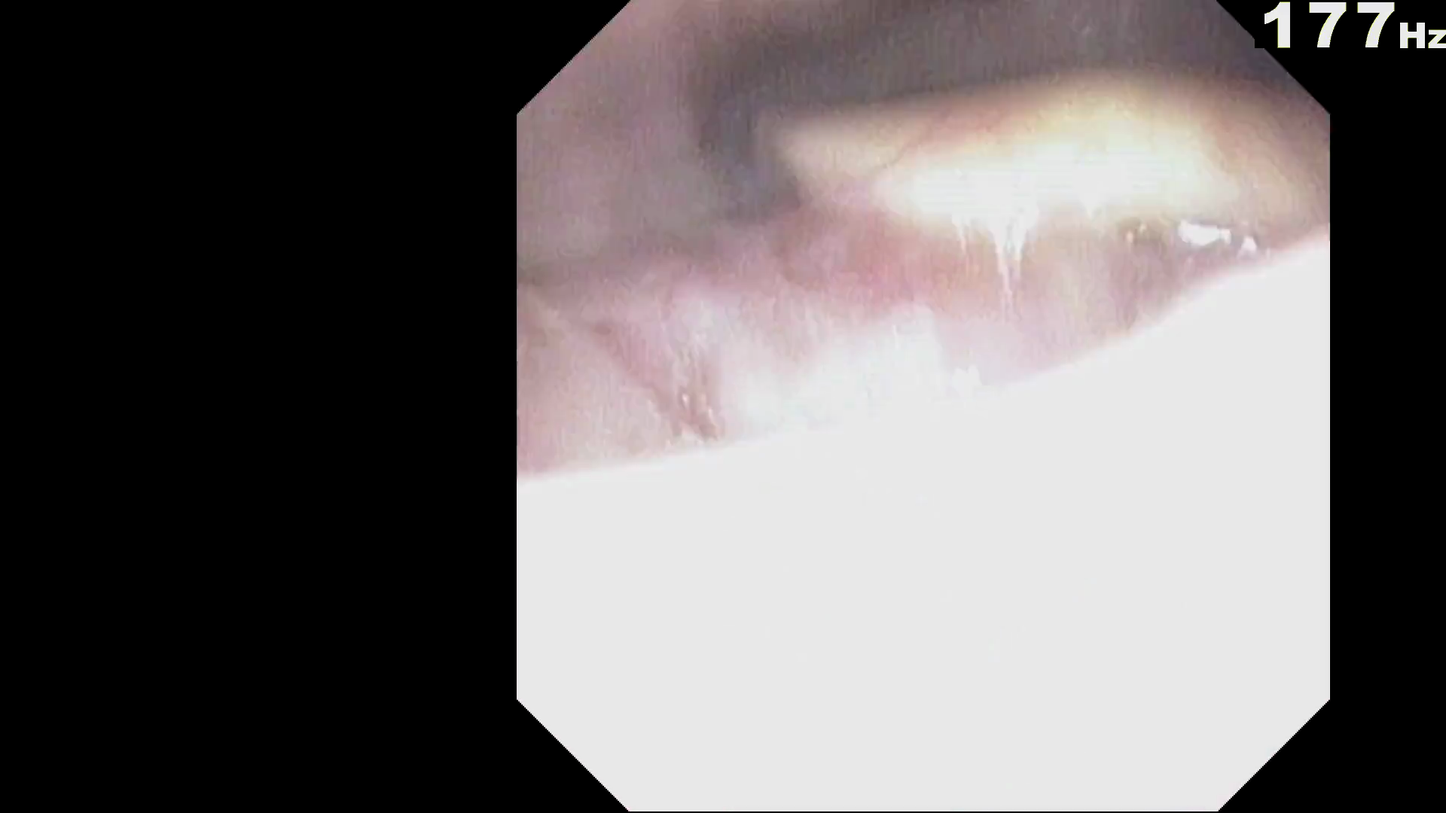epiglottis: (743, 238, 1313, 516)
trachea: (987, 180, 1133, 334)
